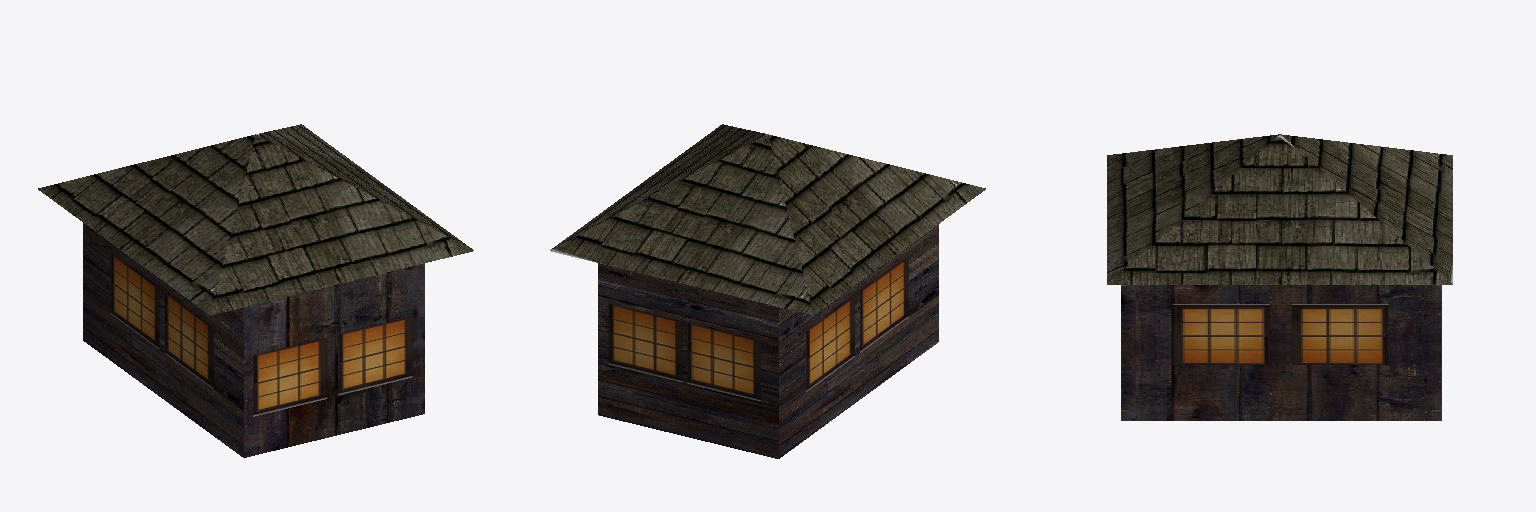
The picture shows the model from 3 angles: view 1: azimuth 30°, elevation 25°; view 2: azimuth 150°, elevation 25°; view 3: azimuth 270°, elevation 25°; orthographic projection.
Parts seen in each view (by area): view 1: Cube.001_Cube.002; view 2: Cube.001_Cube.002; view 3: Cube.001_Cube.002.
Boxes of the visible parts, x1,y1,x2,y2 form: Cube.001_Cube.002: [38, 124, 473, 457]; Cube.001_Cube.002: [550, 124, 985, 458]; Cube.001_Cube.002: [1107, 134, 1452, 420].
Size of the model in its own units: 3.29 by 2.89 by 3.73.
1 materials, 1 textured.